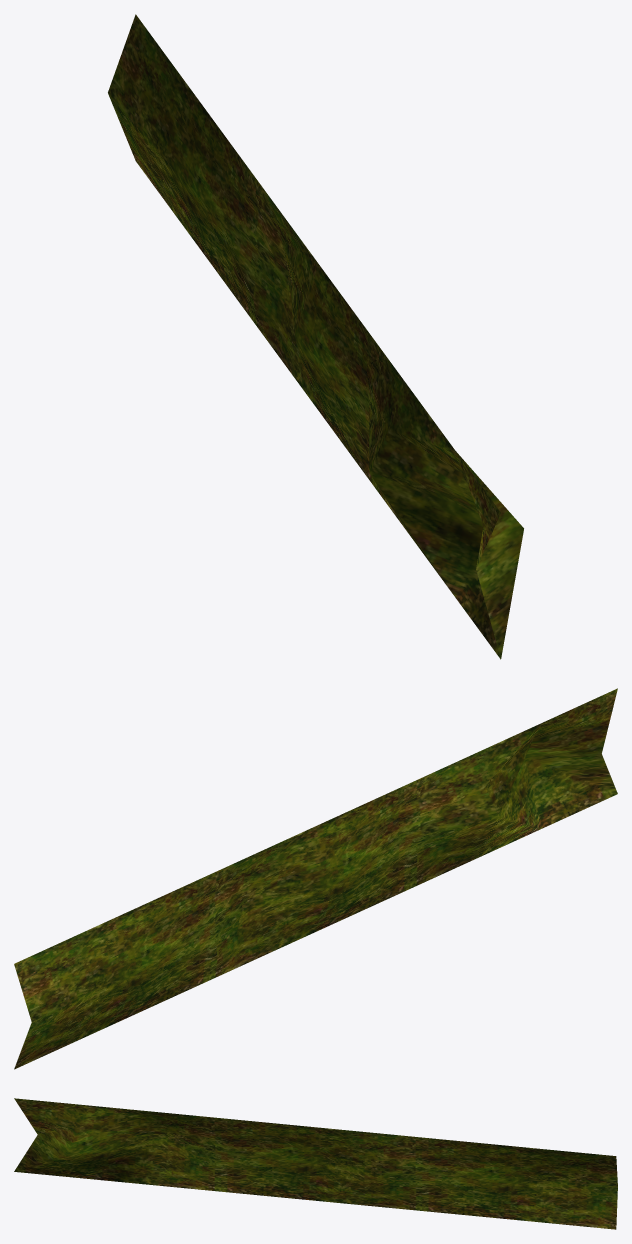
Rendered from TROLLHOLE02_ZRM_PSURF111.fbx.
3 renders of one model, top to bottom at view 1: azimuth 30°, elevation 25°; view 2: azimuth 150°, elevation 25°; view 3: azimuth 270°, elevation 25°, orthographic. The views are drawn at different scales.
Parts seen in each view (by area): view 1: TROLLHOLE02_ZRM_PSURF111; view 2: TROLLHOLE02_ZRM_PSURF111; view 3: TROLLHOLE02_ZRM_PSURF111.
Boxes of the visible parts, <box> form: TROLLHOLE02_ZRM_PSURF111: <box>108,14,523,659</box>; TROLLHOLE02_ZRM_PSURF111: <box>14,688,617,1069</box>; TROLLHOLE02_ZRM_PSURF111: <box>14,1098,617,1229</box>.
Bounding box in the file's own units: 16961 × 10000 × 74468.
1 material, 1 textured.
